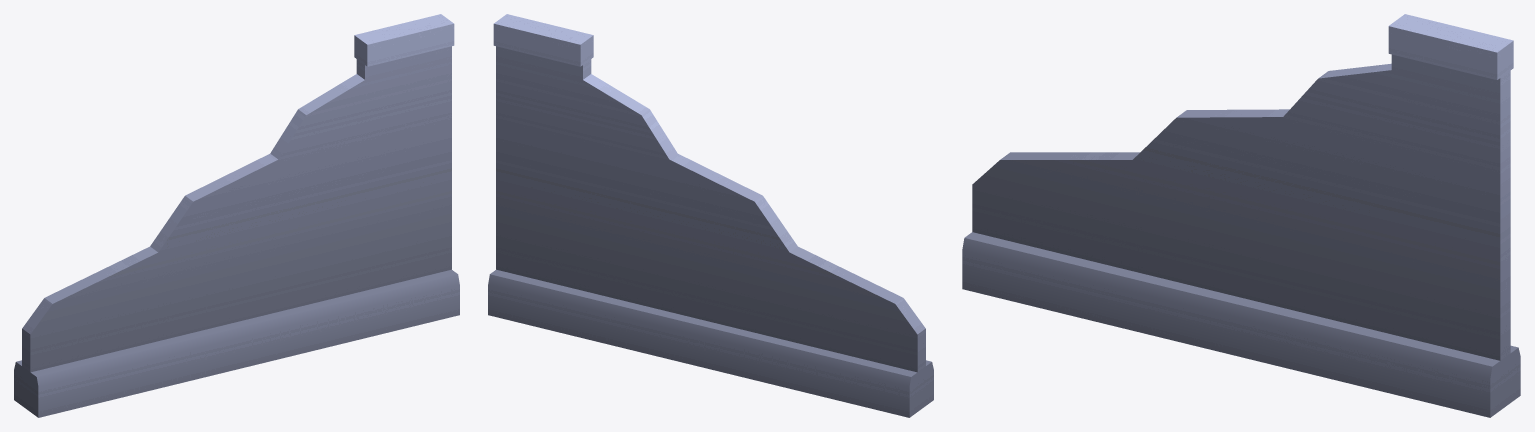
Rendered from stone-wall-damaged.glb.
3 renders of one model, left to right at view 1: azimuth 30°, elevation 25°; view 2: azimuth 150°, elevation 25°; view 3: azimuth 330°, elevation 25°, orthographic. The views are drawn at different scales.
Parts seen in each view (by area): view 1: stone-wall-damaged; view 2: stone-wall-damaged; view 3: stone-wall-damaged.
Part boxes in pixels (x1=…): stone-wall-damaged: x1=14, y1=14, x2=459, y2=417; stone-wall-damaged: x1=488, y1=14, x2=933, y2=417; stone-wall-damaged: x1=962, y1=14, x2=1520, y2=417.
Size of the model in its own units: 1 by 0.6519 by 0.1.
Materials: 1 (1 with a texture image).
